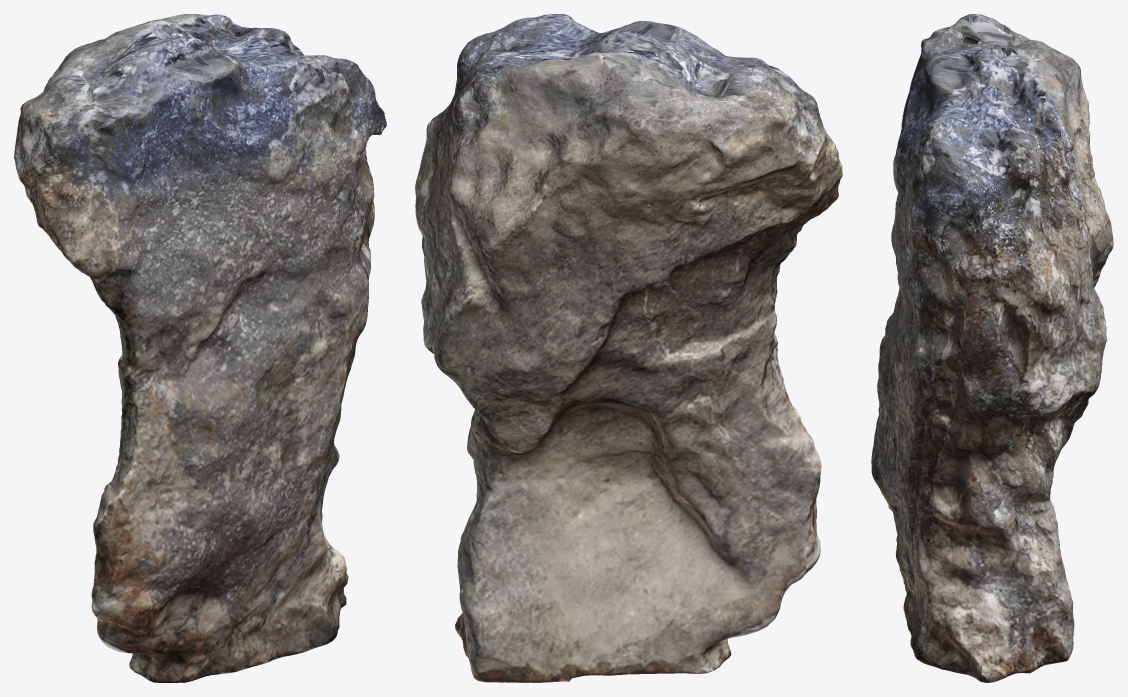
The model's file is sparse1.glb.
3 renders of one model, left to right at view 1: azimuth 30°, elevation 25°; view 2: azimuth 150°, elevation 25°; view 3: azimuth 270°, elevation 25°, orthographic. The views are drawn at different scales.
Parts seen in each view (by area): view 1: Node; view 2: Node; view 3: Node.
Part boxes in pixels (x1,y1,x2,y2): Node: (14, 14, 386, 682); Node: (415, 14, 842, 682); Node: (871, 14, 1113, 682).
Bounding box in the file's own units: 2.54 × 4.16 × 1.64.
1 material, 1 textured.
